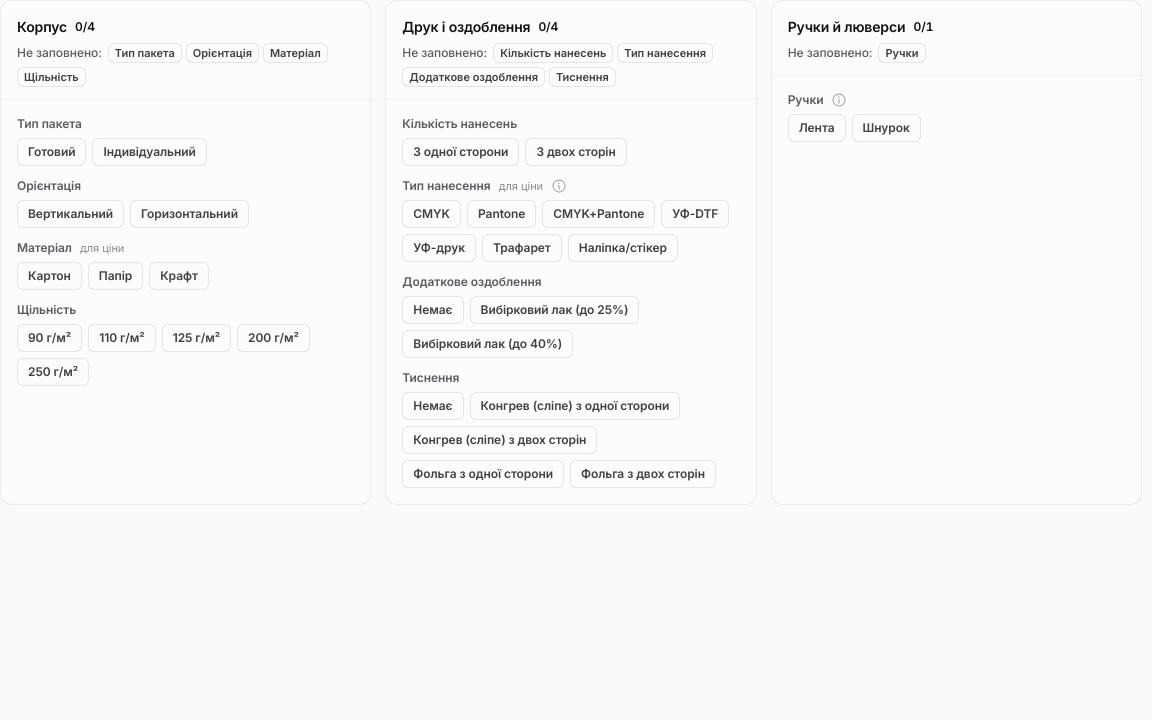
Test: параметри пакета › матеріал міняє щільності, а вибір, якого більше немає, знімається тим самим кліком
The width and height of the screenshot is (1152, 720).
Expected: the button "120 г/м²" is not shown
Click the button "Крафт". click: (179,276)
box: [149,262,209,290]
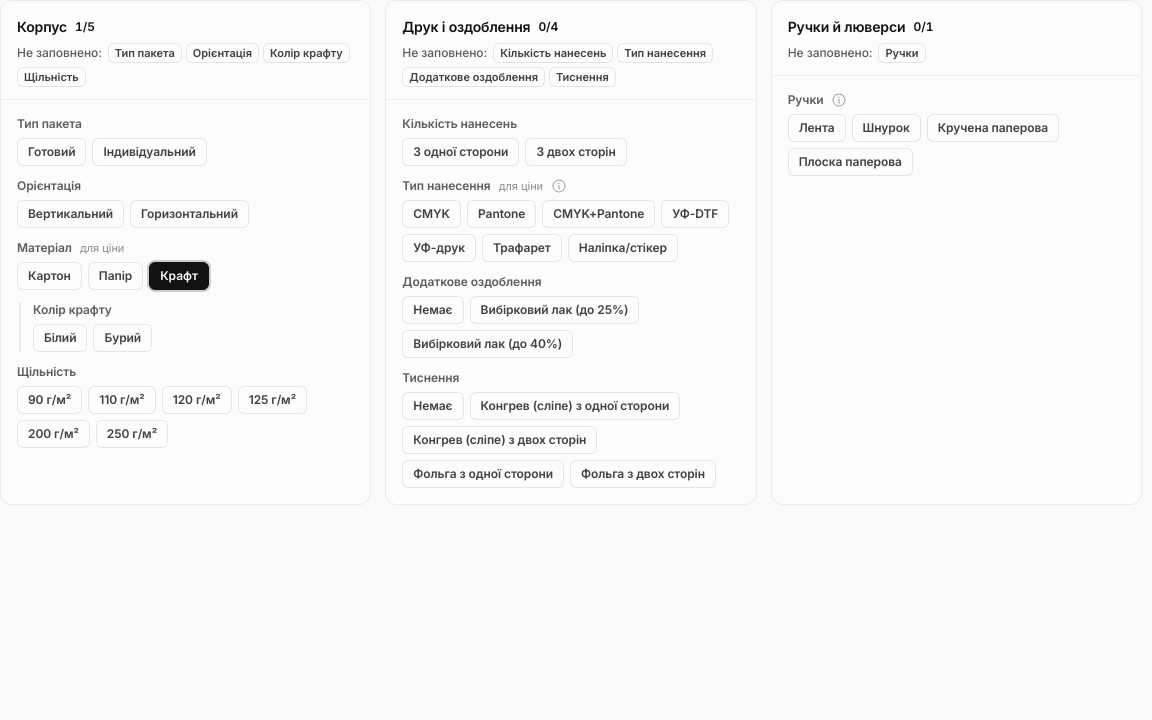
Click the button "120 г/м²". click: (197,400)
box: [162,386,232,414]
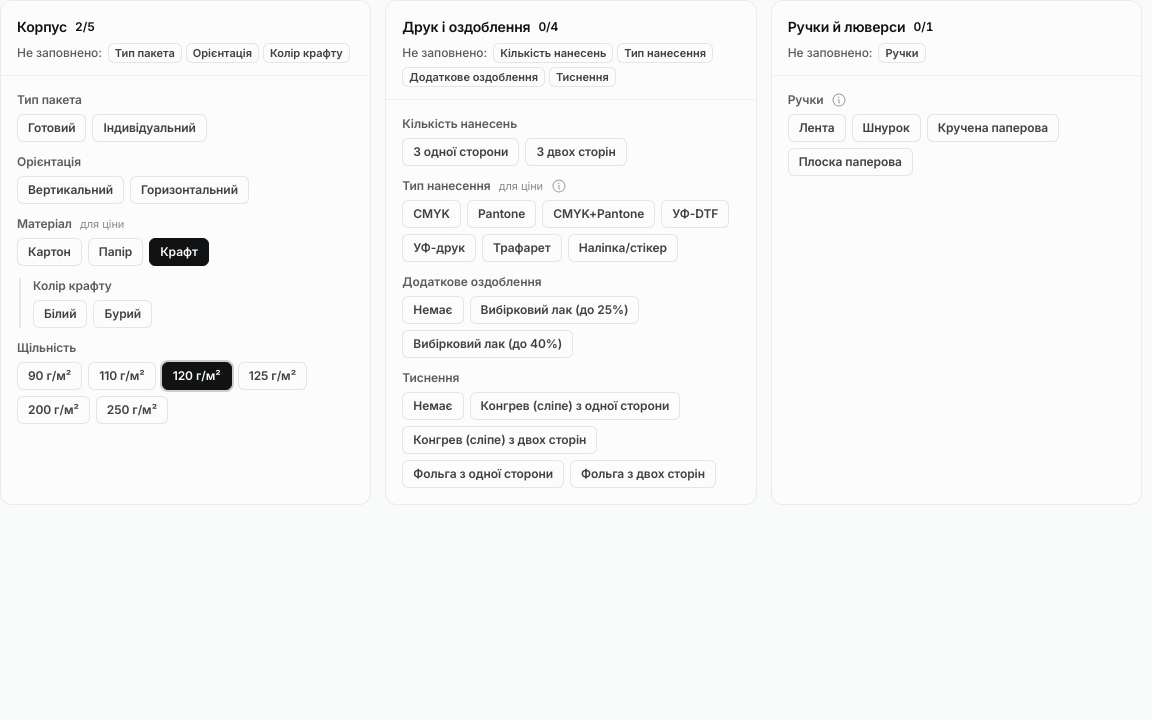
Click the button "Кручена паперова". click: (993,128)
box: [927,114,1059,142]
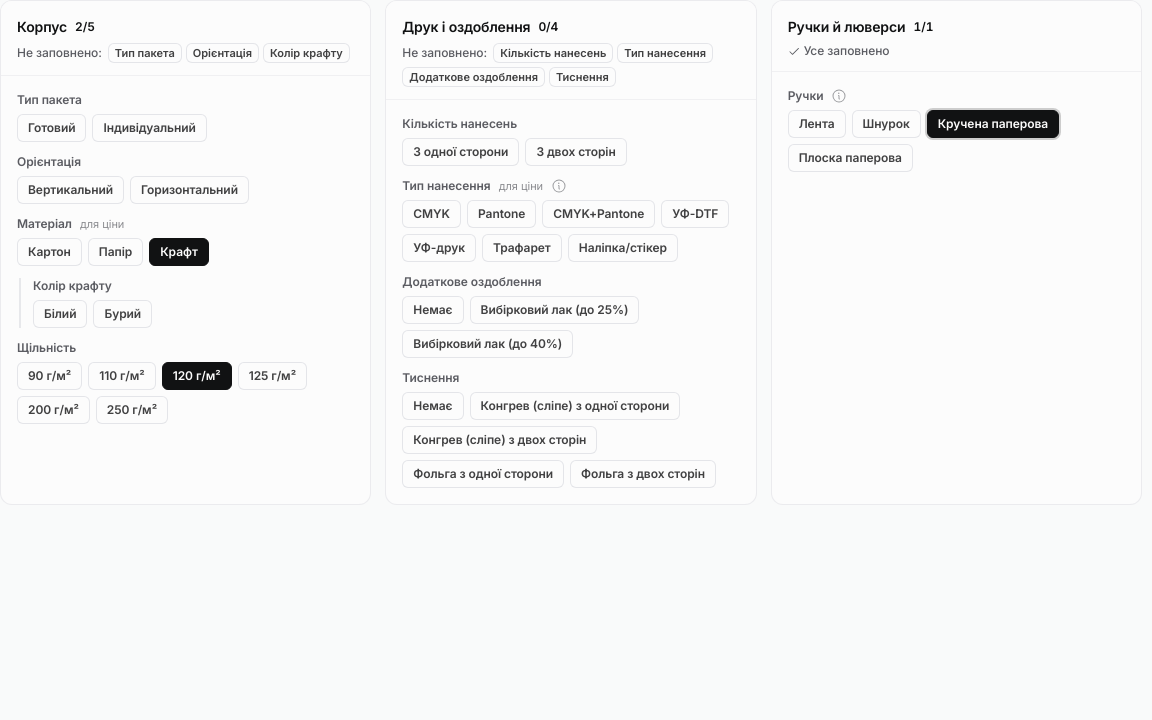
Result: the button "120 г/м²" is pressed at [162,362,232,390]
Click the button "Картон". click: (49,252)
box: [17,238,82,266]
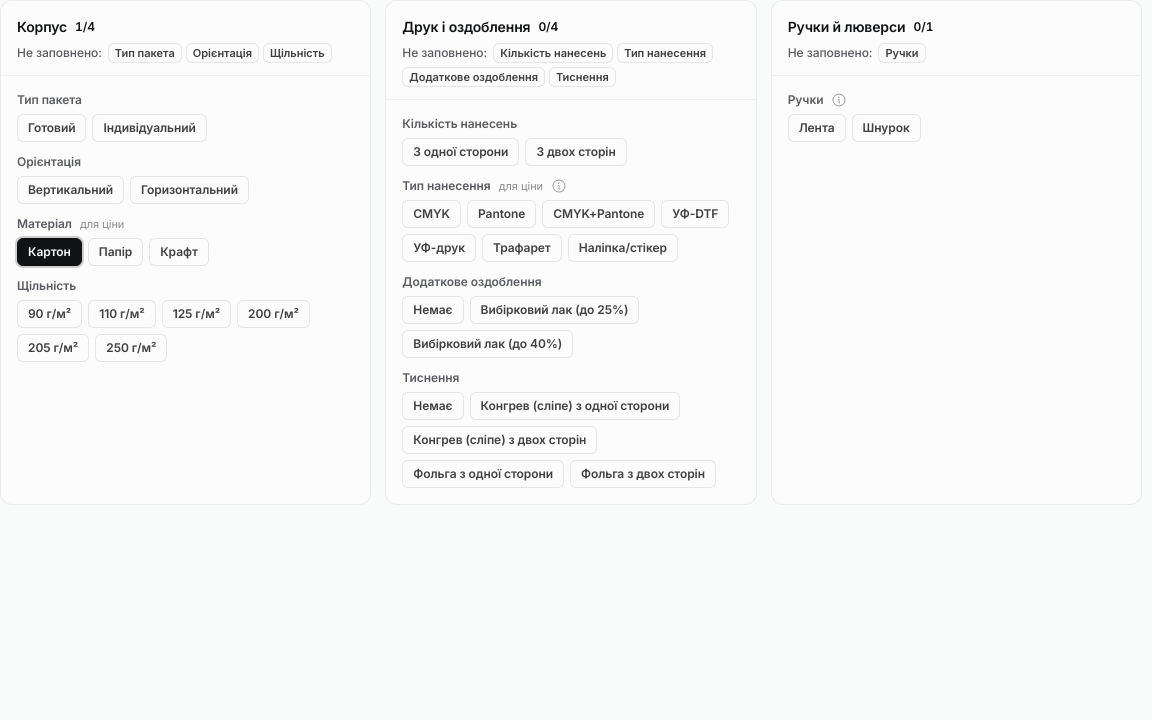
Result: the button "120 г/м²" is gone
Result: the button "205 г/м²" is shown at [17,334,89,362]
Result: the button "Кручена паперова" is gone
